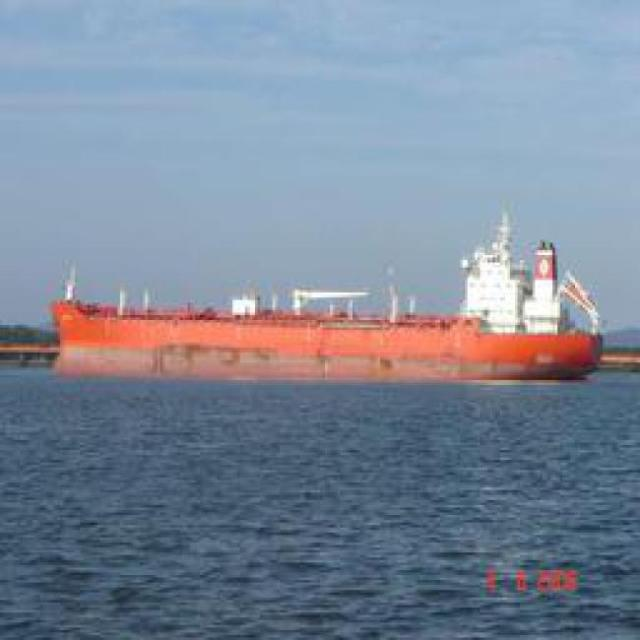boat: (19, 274, 608, 397)
